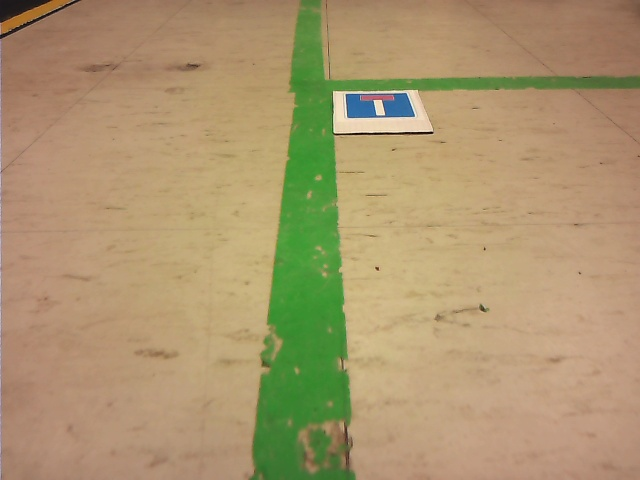DEAD END: (344, 91, 417, 118)
